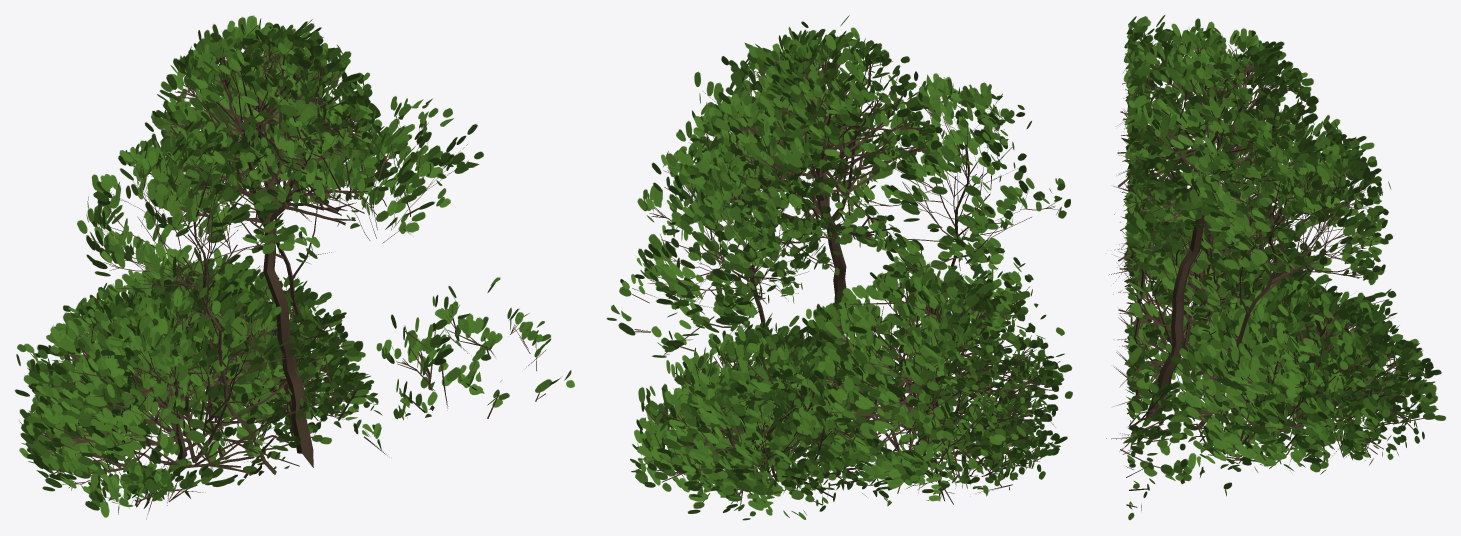
The picture shows the model from 3 angles, left to right: view 1: azimuth 30°, elevation 25°; view 2: azimuth 150°, elevation 25°; view 3: azimuth 270°, elevation 25°; orthographic projection. The views are drawn at different scales.
Parts seen in each view (by area): view 1: oak 01.001_trunk_Mat.001_0.430; view 2: oak 01.001_trunk_Mat.001_0.430; view 3: oak 01.001_trunk_Mat.001_0.430.
Part boxes in pixels (x1,y1,x2,y2): oak 01.001_trunk_Mat.001_0.430: (14,15,574,519); oak 01.001_trunk_Mat.001_0.430: (606,15,1072,520); oak 01.001_trunk_Mat.001_0.430: (1106,15,1445,520).
Bounding box in the file's own units: 5.11 × 4.32 × 3.25.
2 materials, 1 textured.
